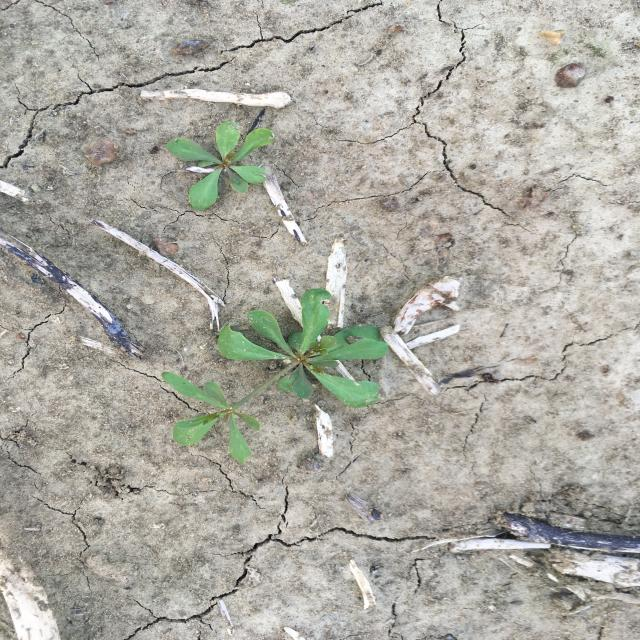Carpetweed: (158, 287, 393, 466), (164, 118, 276, 213)
